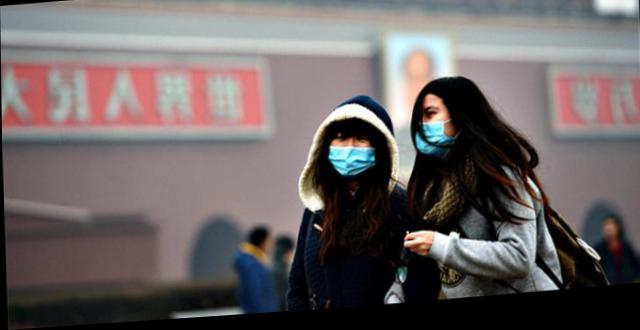OK: (405, 111, 457, 164)
WRONG: (325, 129, 375, 180)
